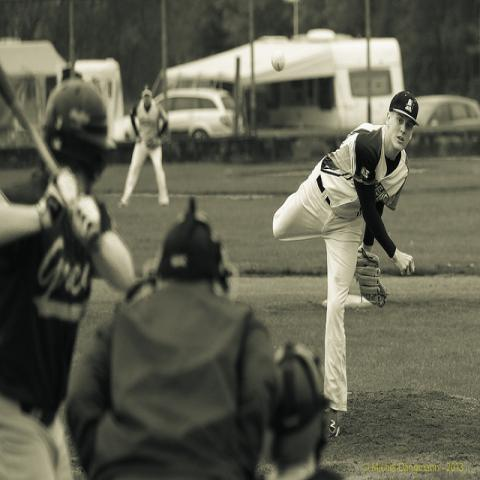car: (118, 82, 246, 146), (416, 94, 480, 127)
